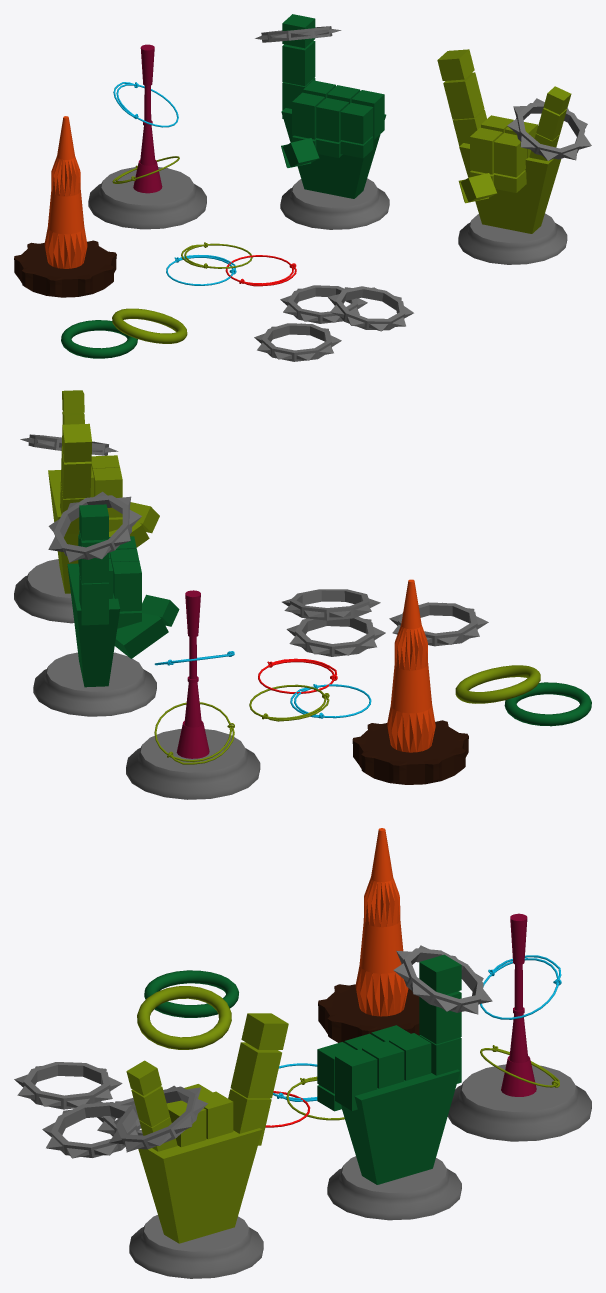
The model's file is Juego de Aros.fbx.
The picture shows the model from 3 angles, top to bottom: view 1: azimuth 30°, elevation 25°; view 2: azimuth 150°, elevation 25°; view 3: azimuth 270°, elevation 25°; orthographic projection. The views are drawn at different scales.
Parts seen in each view (by area): view 1: Box018, Box003, Cylinder003, Cylinder004, Cylinder006, Cylinder007, Torus003, Cylinder005, Torus002, Torus010, Torus012, Torus008 (+1 smaller); view 2: Box003, Cylinder003, Box018, Cylinder004, Cylinder005, Cylinder006, Torus003, Torus002, Cylinder007, Torus011, Torus009, Torus010 (+1 smaller); view 3: Box003, Box018, Cylinder004, Cylinder003, Torus003, Cylinder007, Cylinder006, Torus002, Torus012.
Part boxes in pixels (x1,y1,x2,y2): Box018: [437, 49, 591, 264]; Box003: [255, 14, 389, 229]; Cylinder003: [14, 116, 116, 297]; Cylinder004: [88, 44, 206, 229]; Cylinder006: [328, 286, 413, 331]; Cylinder007: [254, 323, 341, 361]; Torus003: [112, 308, 187, 343]; Cylinder005: [280, 285, 367, 323]; Torus002: [61, 320, 137, 358]; Torus010: [225, 255, 296, 286]; Torus012: [113, 82, 178, 127]; Torus008: [166, 255, 236, 285]; Box003: [33, 491, 179, 716]; Cylinder003: [352, 579, 468, 784]; Box018: [14, 390, 159, 623]; Cylinder004: [126, 590, 260, 799]; Cylinder005: [286, 616, 385, 656]; Cylinder006: [282, 589, 380, 620]; Torus003: [455, 665, 540, 703]; Torus002: [504, 682, 591, 726]; Cylinder007: [389, 602, 488, 646]; Torus011: [154, 702, 234, 764]; Torus009: [249, 684, 329, 721]; Torus010: [258, 658, 337, 693]; Box003: [317, 945, 492, 1220]; Box018: [109, 1013, 288, 1278]; Cylinder004: [447, 913, 591, 1141]; Cylinder003: [318, 828, 419, 1042]; Torus003: [137, 986, 231, 1049]; Cylinder007: [14, 1062, 122, 1109]; Cylinder006: [42, 1101, 140, 1158]; Torus002: [144, 970, 238, 1017]; Torus012: [480, 955, 561, 1019].
Bounding box in the file's own units: 63.48 × 21.8 × 50.66.
